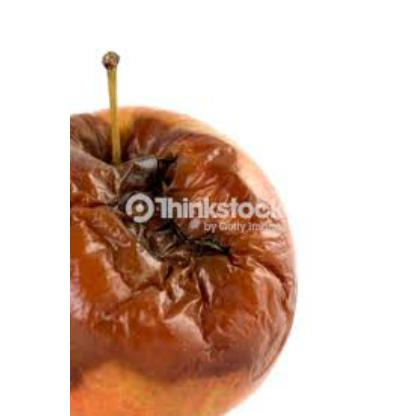apple: (70, 98, 296, 392)
